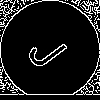J: (25, 25, 77, 73)
